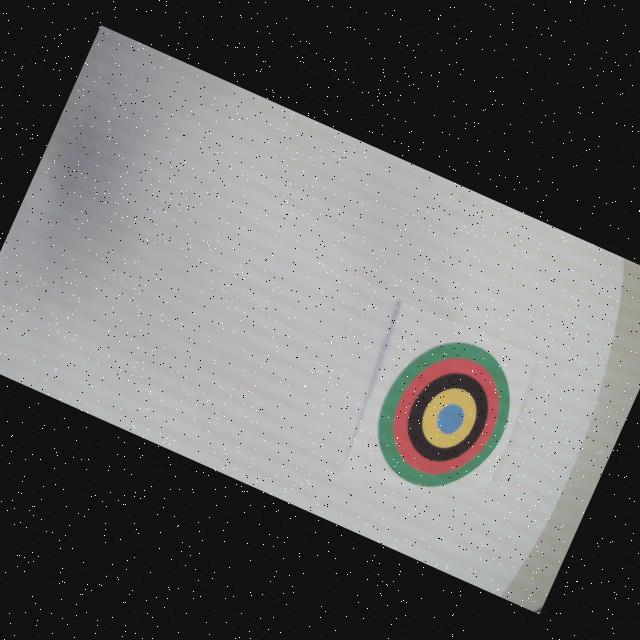COGNITIVE: (358, 320, 532, 510)
